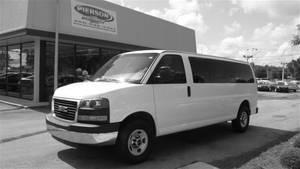car: (45, 50, 262, 165)
